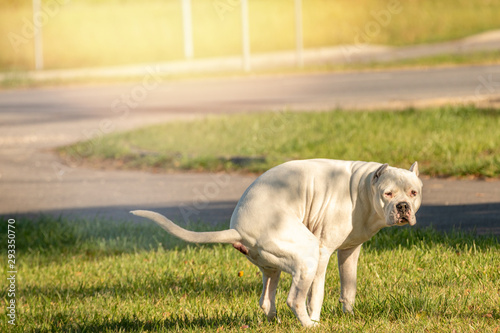dog_pooping: (125, 148, 426, 329)
